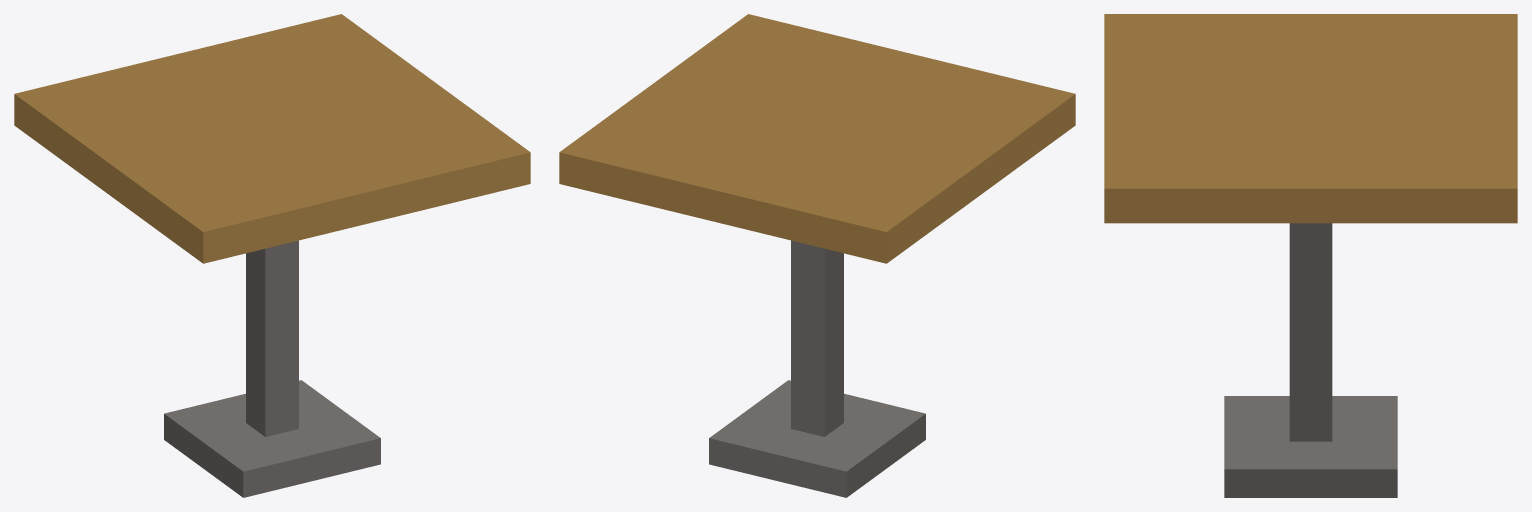
File: Table.glb
3 views of the same model, side by side, from view 1: azimuth 30°, elevation 25°; view 2: azimuth 150°, elevation 25°; view 3: azimuth 270°, elevation 25° (orthographic). The views are drawn at different scales.
Parts seen in each view (by area): view 1: SI_Prop_Table_02; view 2: SI_Prop_Table_02; view 3: SI_Prop_Table_02.
Boxes of the visible parts, x1,y1,x2,y2 form: SI_Prop_Table_02: [14, 14, 530, 497]; SI_Prop_Table_02: [559, 14, 1075, 497]; SI_Prop_Table_02: [1104, 14, 1517, 497].
Bounding box in the file's own units: 0.0183 × 0.0176 × 0.0183.
Materials: 1 (1 with a texture image).
